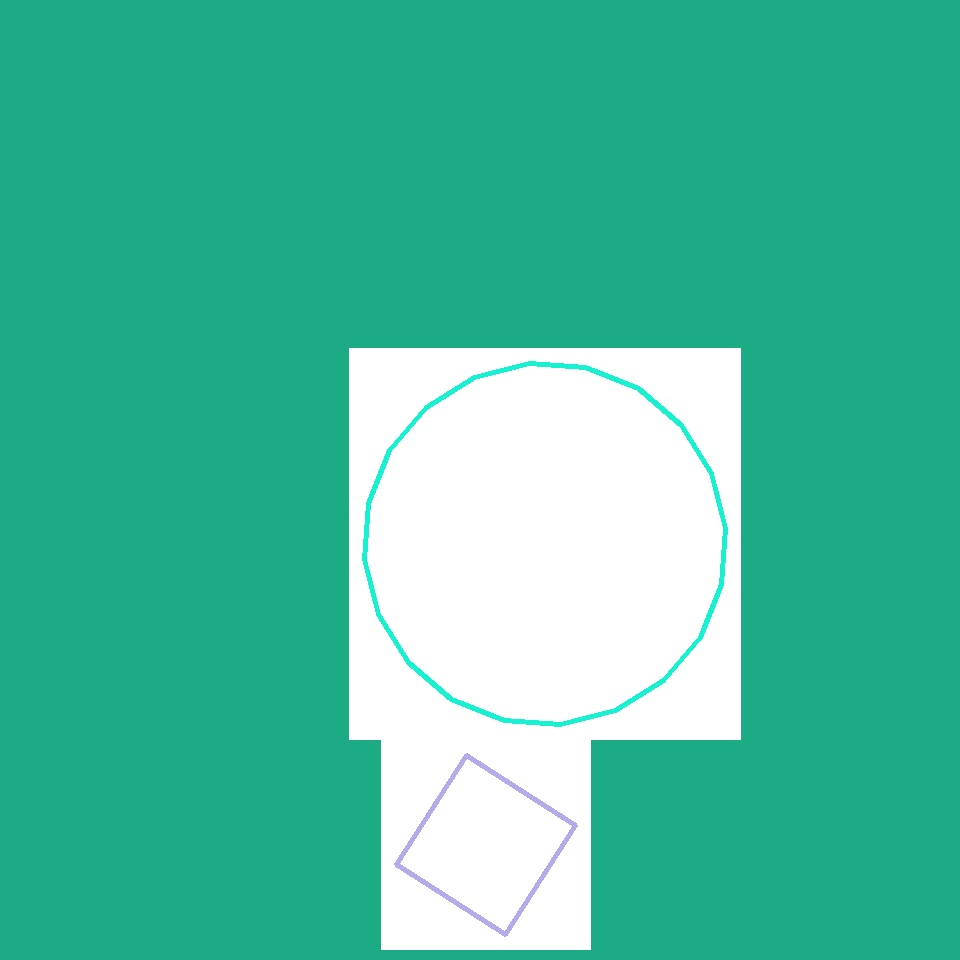circle: (666, 107, 794, 219)
square: (466, 575, 828, 936), (396, 756, 576, 935), (162, 578, 322, 738)
triangle: (365, 364, 726, 724), (800, 397, 924, 520)
